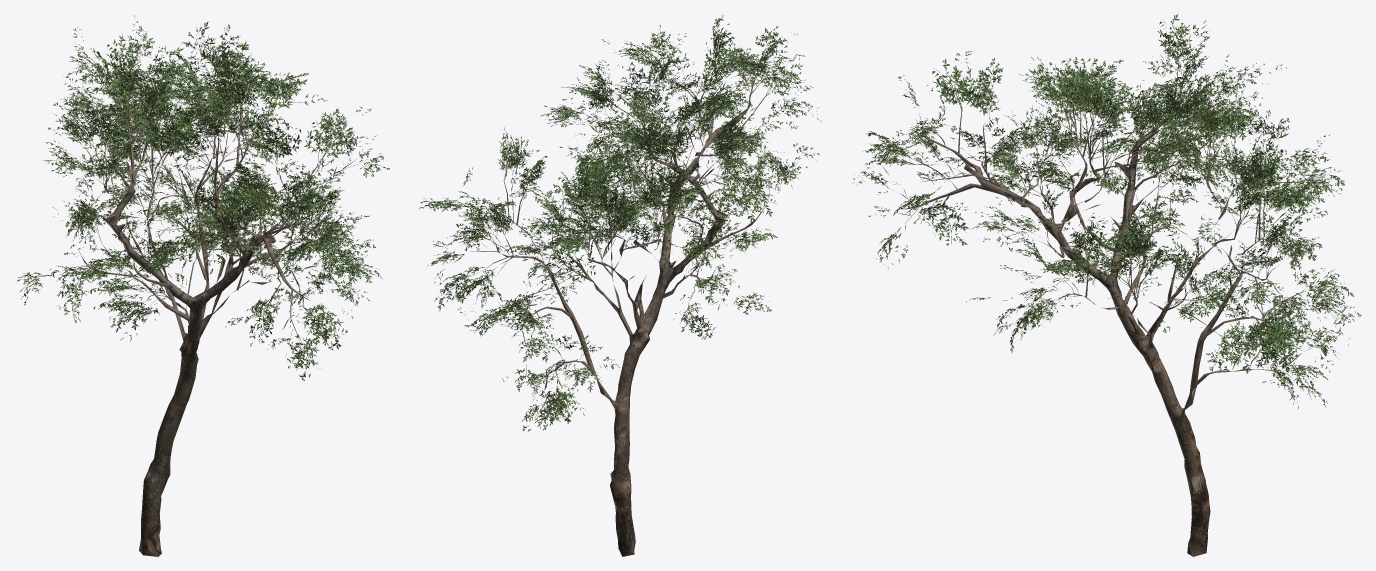
Rendered from wild-syringa.glb.
3 views of the same model, side by side, from view 1: azimuth 30°, elevation 25°; view 2: azimuth 150°, elevation 25°; view 3: azimuth 270°, elevation 25° (orthographic). The views are drawn at different scales.
Bounding box in the file's own units: 2.9 × 4.55 × 4.21.
3 materials, 3 textured.
